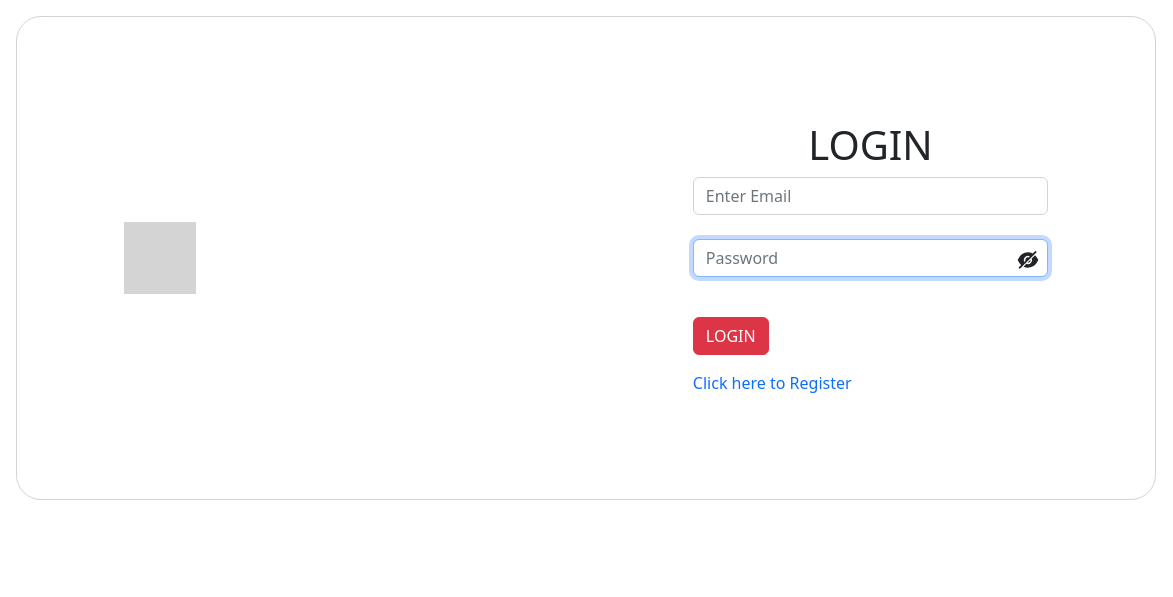
LoginScreen › renders with invalid inputs › validate the password should greater then 8
The image size is (1173, 597).
Type "test128" into the password field with placeholder "Password". click: (870, 258)
box: left=693, top=239, right=1048, bottom=277
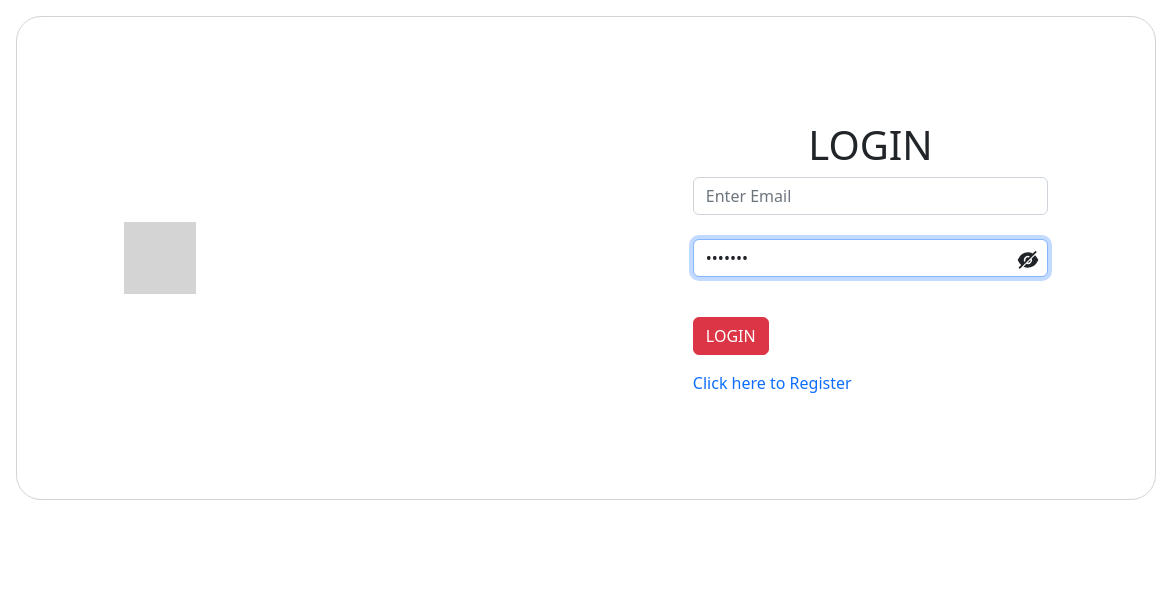
Submit the form from the button, box left=693, top=317, right=769, bottom=355
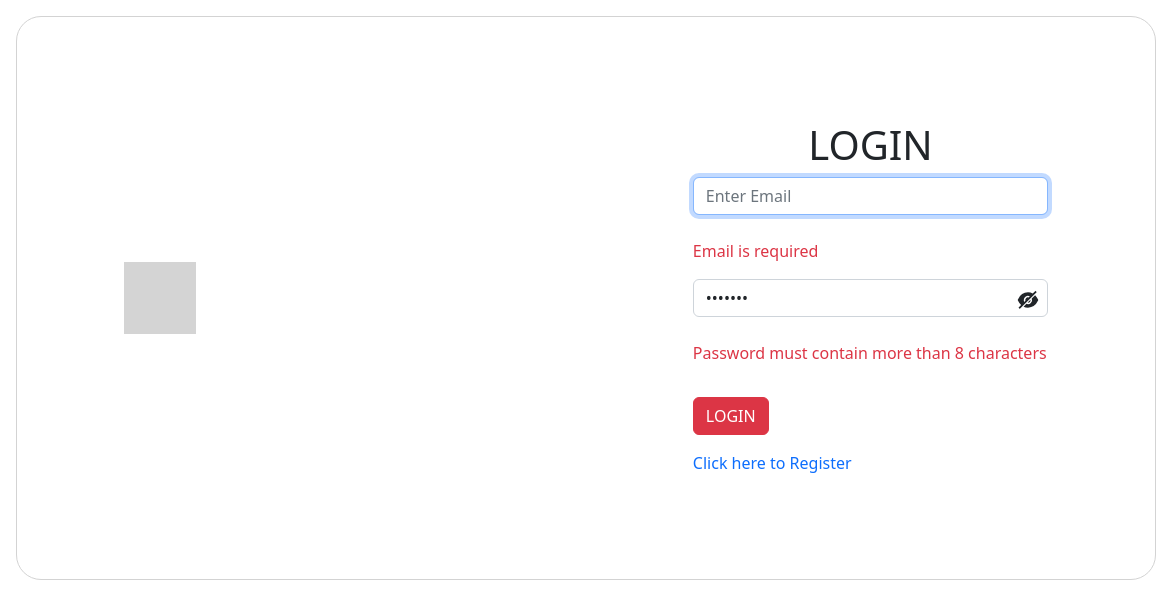
Now the text "Password must contain more than 8 characters" is shown, box left=693, top=342, right=1047, bottom=364
